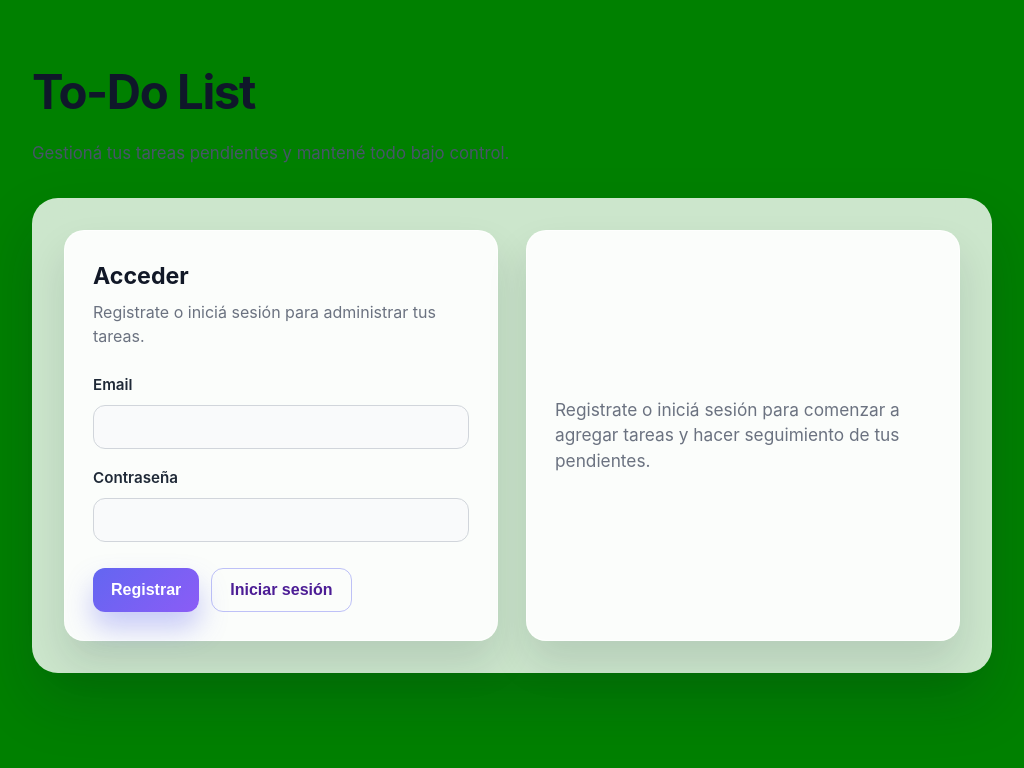
Test: App integration › permite editar una tarea existente y guarda los cambios
Type "demo@example.com" into the field labelled "Email" at (281, 427), box [93, 405, 469, 449]
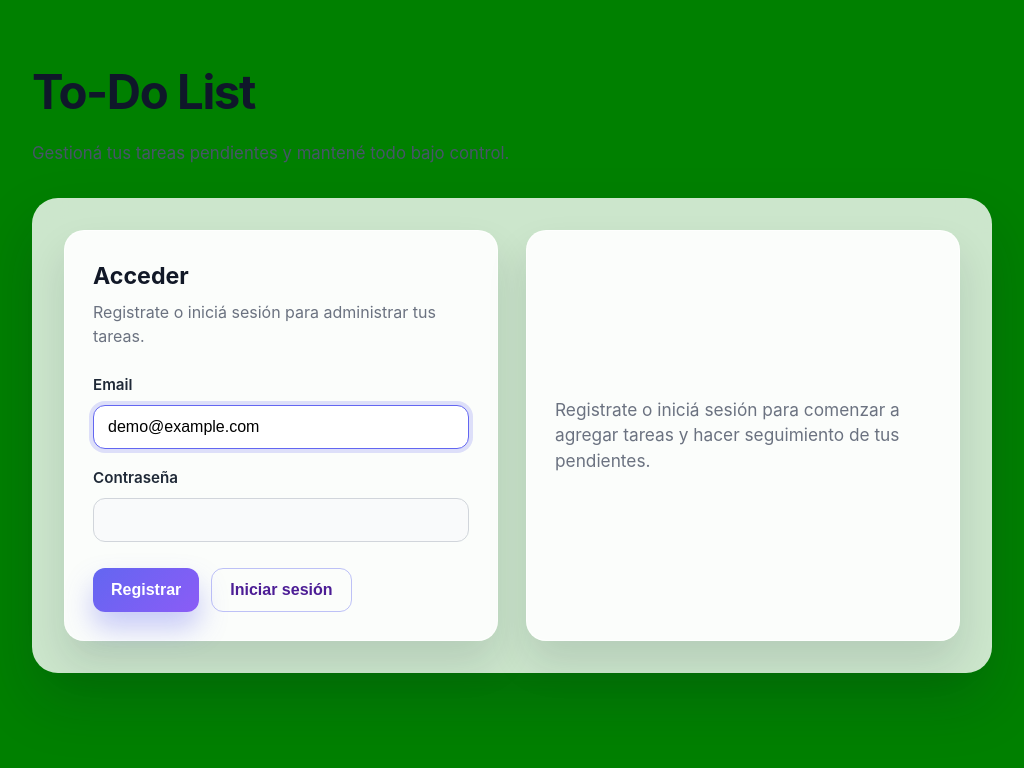
Type "pass123" into the password field labelled "Contraseña" at (281, 520), box [93, 498, 469, 542]
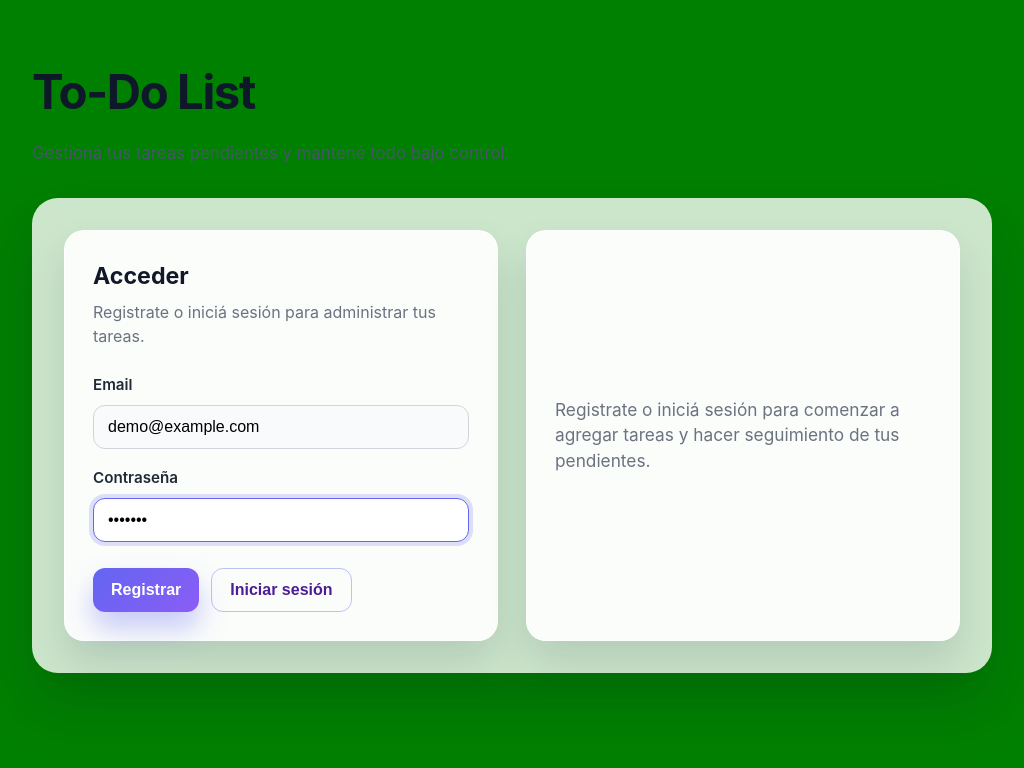
Click the button "Iniciar sesión" at (281, 590), box [211, 568, 352, 612]
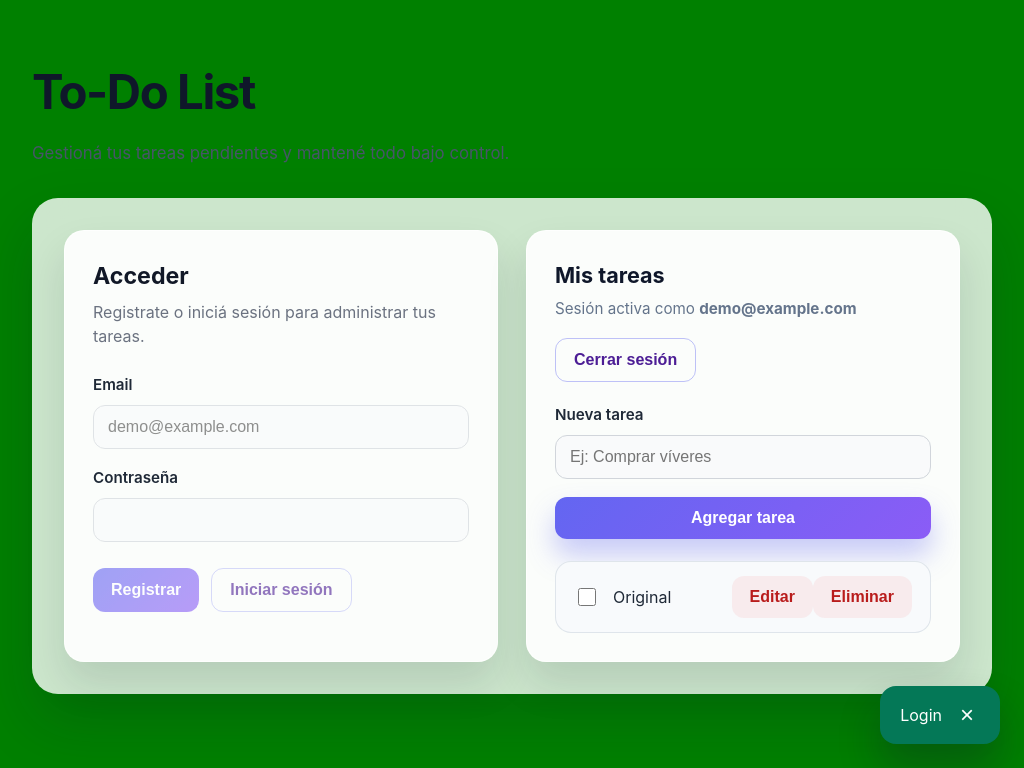
Click the button "Editar" at (772, 597), box [732, 576, 813, 618]
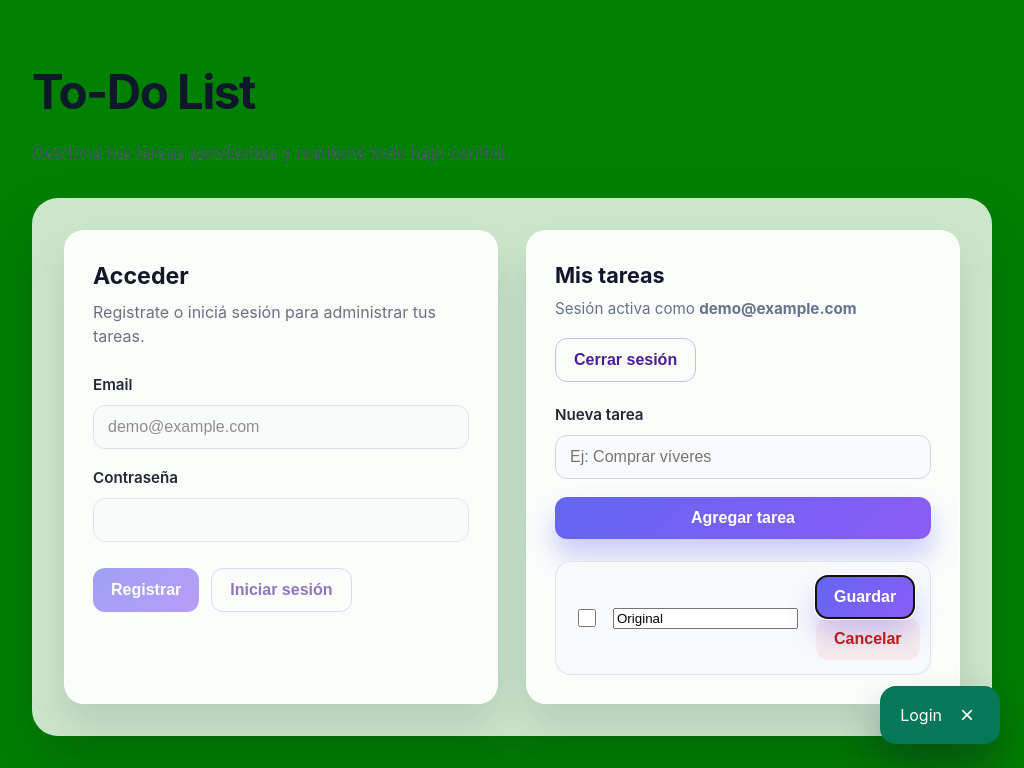
Replace the text in the field named "editar tarea original" with "Editada" at (706, 618), box [613, 608, 798, 629]
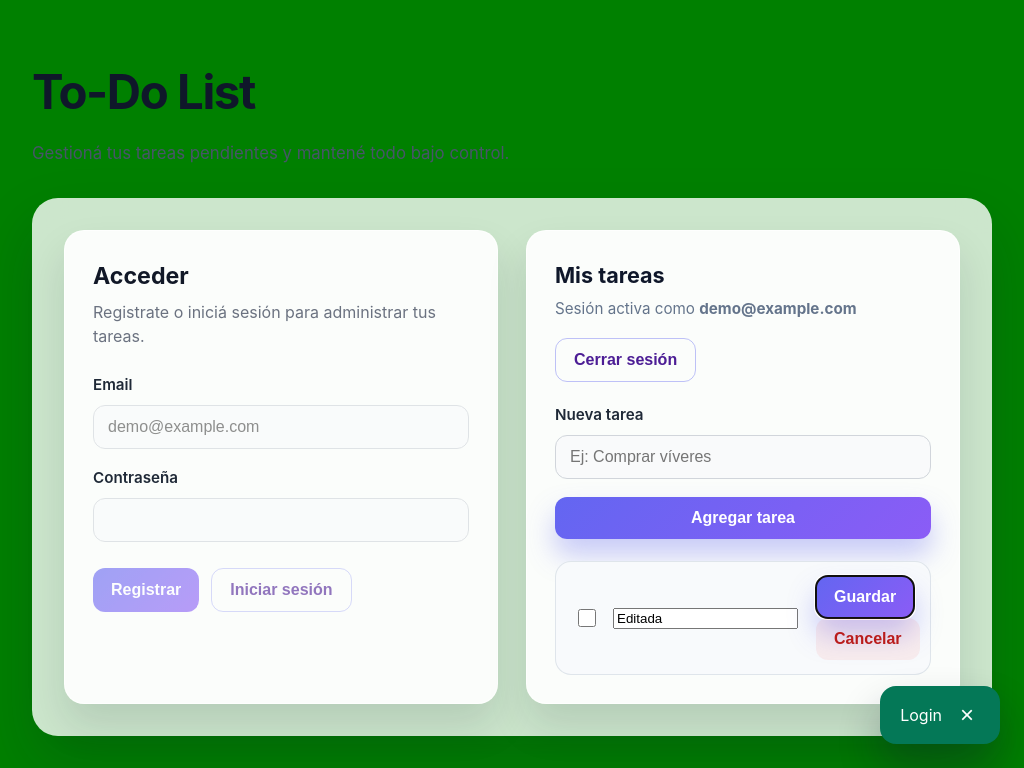
Click the button "Guardar" at (865, 597), box [816, 576, 914, 618]
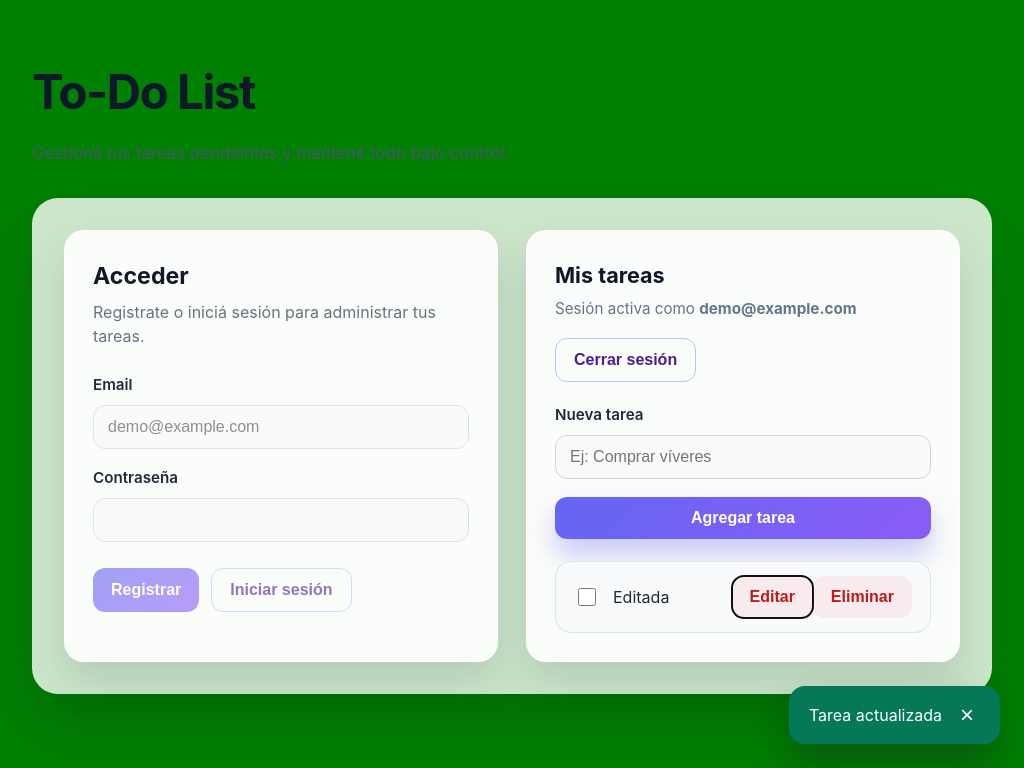
Check: the text "Editada" is shown, box [613, 585, 669, 609]
